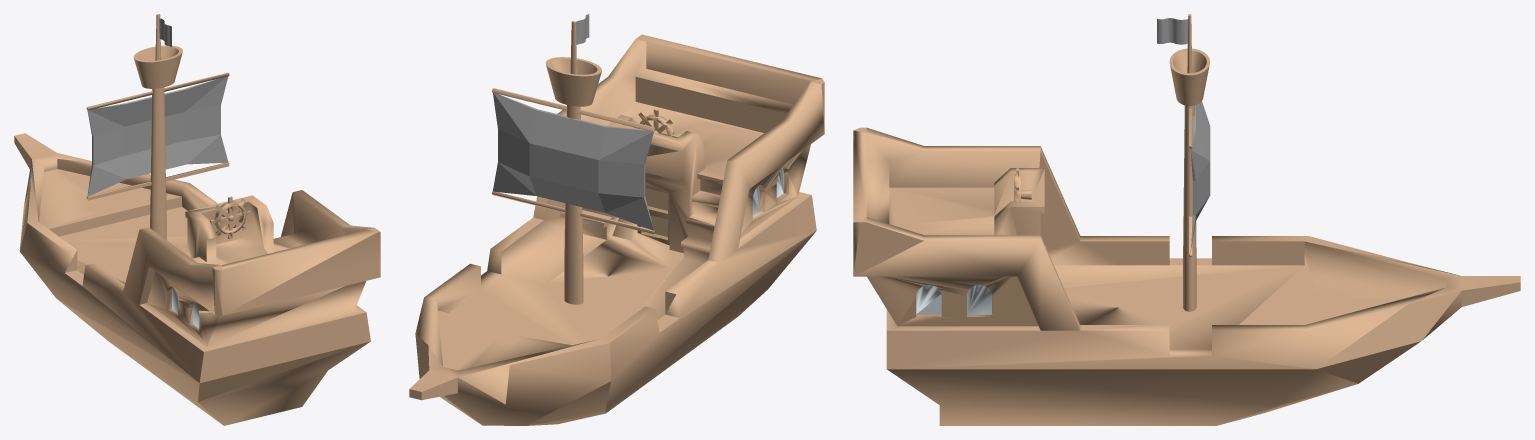
The model's file is EnemyShip 1.fbx.
3 renders of one model, left to right at view 1: azimuth 30°, elevation 25°; view 2: azimuth 150°, elevation 25°; view 3: azimuth 270°, elevation 25°, orthographic. The views are drawn at different scales.
Parts seen in each view (by area): view 1: ship_dark, sail_middle, ship_mast, steering; view 2: ship_dark, sail_middle, ship_mast, steering; view 3: ship_dark, ship_mast, sail_middle.
Part boxes in pixels (left/top/right/bottom): ship_dark: left=14, top=133, right=380, bottom=425; sail_middle: left=86, top=72, right=229, bottom=200; ship_mast: left=133, top=14, right=182, bottom=239; steering: left=210, top=196, right=250, bottom=239; ship_dark: left=409, top=34, right=824, bottom=425; sail_middle: left=492, top=88, right=654, bottom=234; ship_mast: left=545, top=14, right=601, bottom=304; steering: left=633, top=109, right=678, bottom=137; ship_dark: left=853, top=127, right=1520, bottom=425; ship_mast: left=1157, top=14, right=1209, bottom=311; sail_middle: left=1189, top=101, right=1210, bottom=257.
Bounding box in the file's own units: 2850 × 5169 × 8049.
